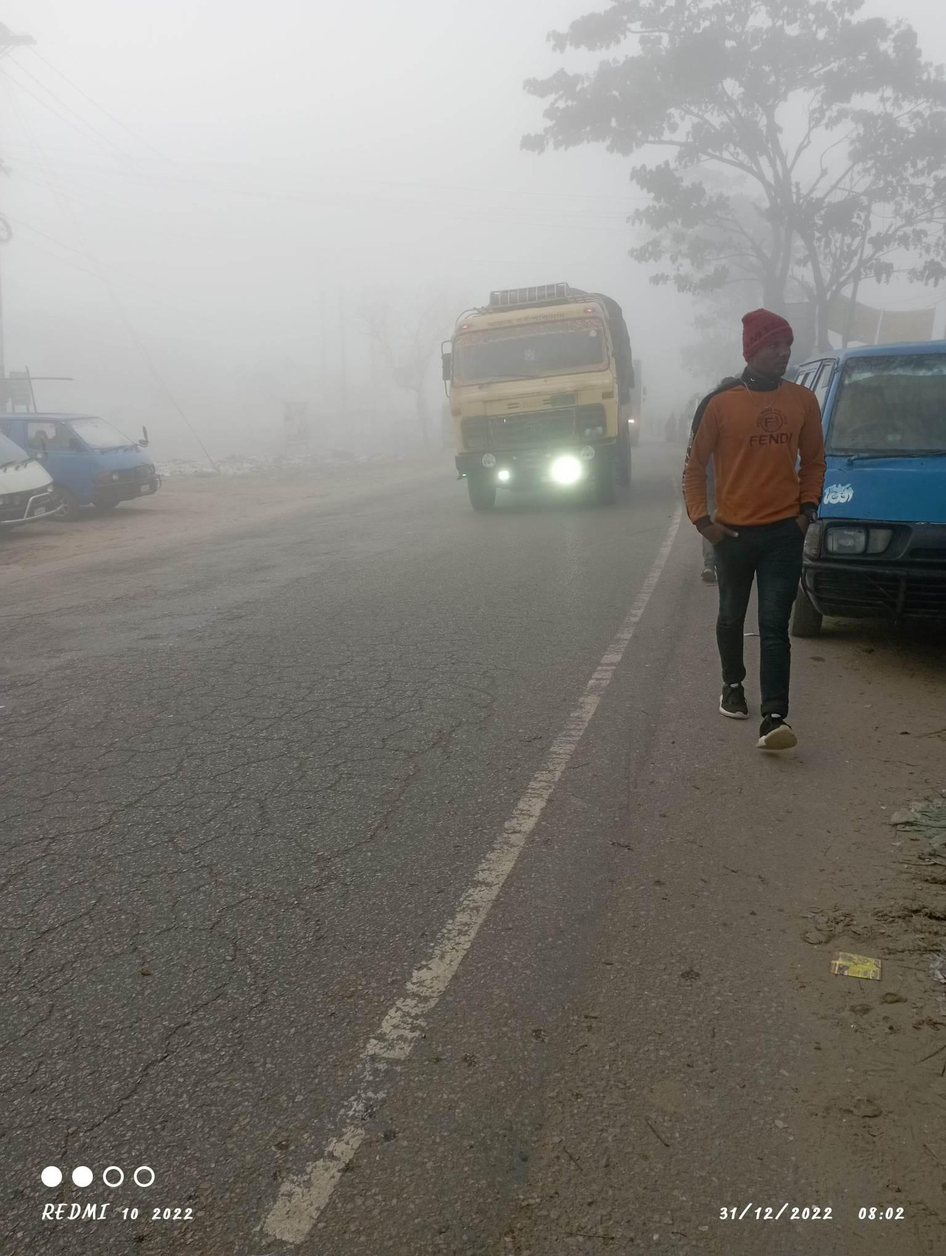Car: (780, 320, 946, 653), (10, 385, 177, 518)
Truck: (426, 270, 663, 509)
